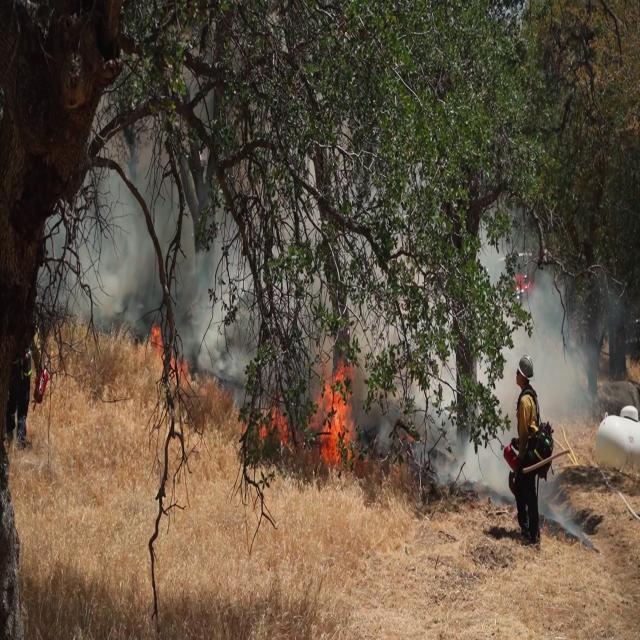Fire: (314, 366, 357, 462)
Smoke: (44, 130, 244, 380), (528, 266, 600, 451)
